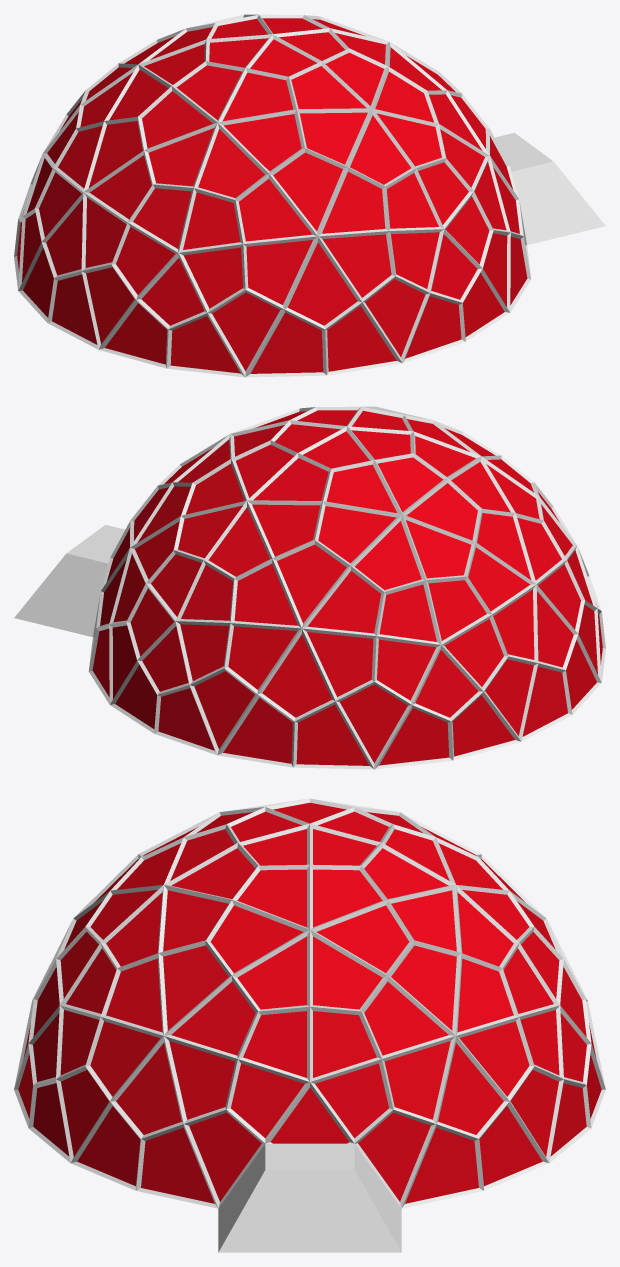
Rendered from munbase.fbx.
The picture shows the model from 3 angles, top to bottom: view 1: azimuth 30°, elevation 25°; view 2: azimuth 150°, elevation 25°; view 3: azimuth 270°, elevation 25°; orthographic projection. The views are drawn at different scales.
Parts seen in each view (by area): view 1: Icosphere.001, Hatch; view 2: Icosphere.001, Hatch; view 3: Icosphere.001, Hatch.
Boxes of the visible parts, x1=… form: Icosphere.001: x1=14, y1=14, x2=531, y2=377; Hatch: x1=495, y1=133, x2=605, y2=245; Icosphere.001: x1=88, y1=406, x2=605, y2=769; Hatch: x1=14, y1=525, x2=124, y2=637; Icosphere.001: x1=14, y1=798, x2=605, y2=1208; Hatch: x1=218, y1=1143, x2=401, y2=1252.
Bounding box in the file's own units: 1341 × 580 × 1166.
